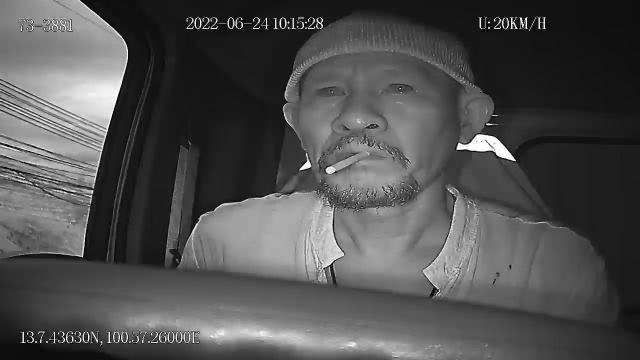SafeDriving: (374, 71, 424, 102), (307, 74, 353, 105)
Smoking: (324, 150, 372, 174)
